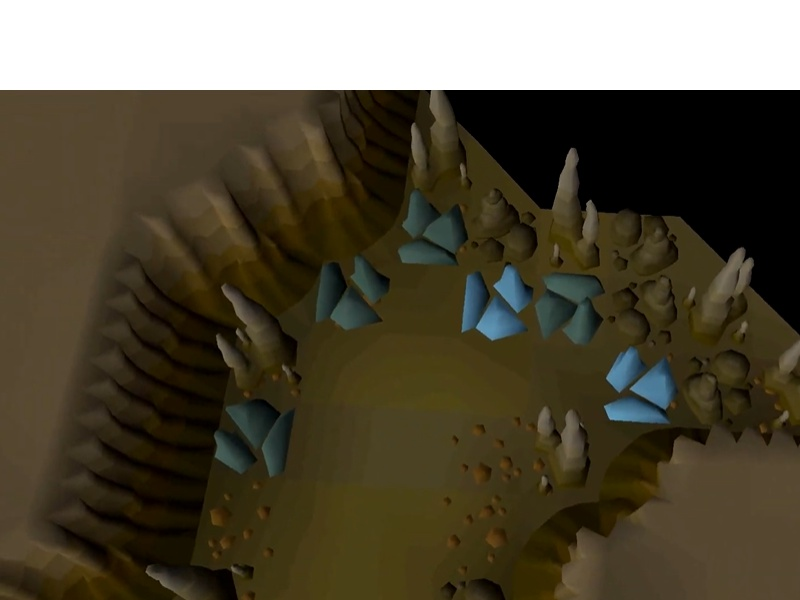adamant: (209, 394, 301, 480), (314, 252, 393, 335), (395, 184, 471, 268), (531, 269, 609, 349)
rune: (600, 344, 679, 427), (457, 263, 536, 344)
